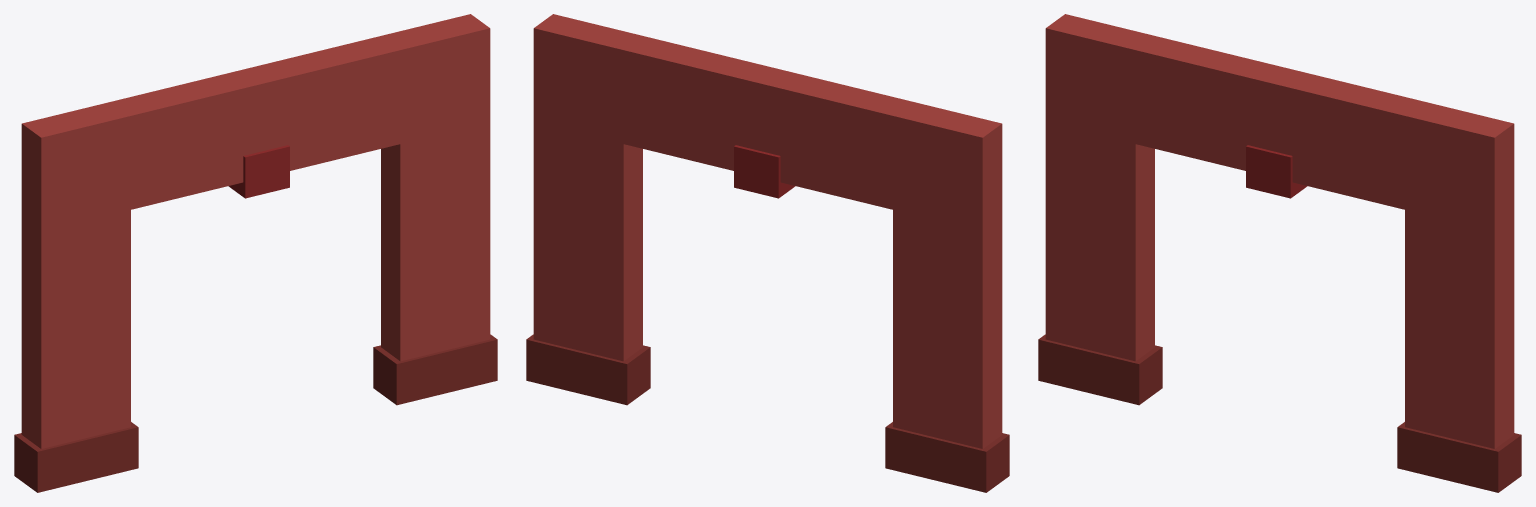
Rendered from CB_ENV_VN_Wall_RedBrick_A.glb.
3 renders of one model, left to right at view 1: azimuth 30°, elevation 25°; view 2: azimuth 150°, elevation 25°; view 3: azimuth 330°, elevation 25°, orthographic.
Visible parts, largest first — view 1: CB_ENV_VN_Wall_RedBrick_A; view 2: CB_ENV_VN_Wall_RedBrick_A; view 3: CB_ENV_VN_Wall_RedBrick_A.
Part boxes in pixels (left/top/right/bottom): CB_ENV_VN_Wall_RedBrick_A: left=14, top=14, right=497, bottom=492; CB_ENV_VN_Wall_RedBrick_A: left=526, top=14, right=1009, bottom=492; CB_ENV_VN_Wall_RedBrick_A: left=1038, top=14, right=1521, bottom=492.
Size of the model in its own units: 4.1 by 3 by 0.36.
